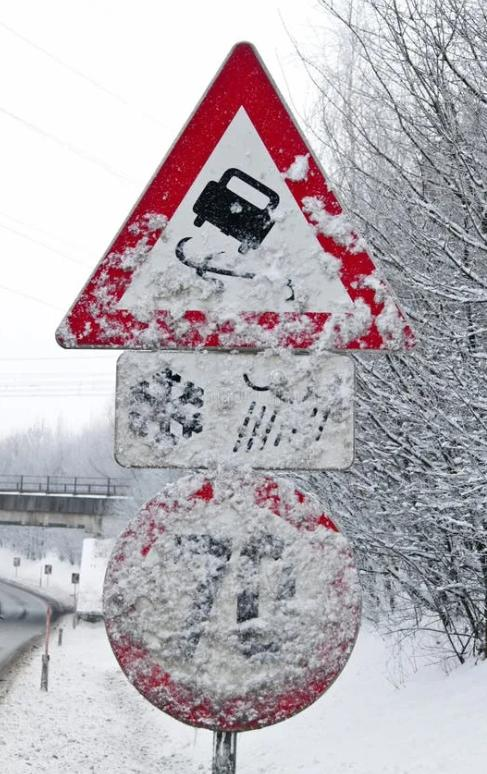obstructed_road_sign: (57, 44, 413, 352), (103, 468, 360, 732), (115, 351, 354, 469)
